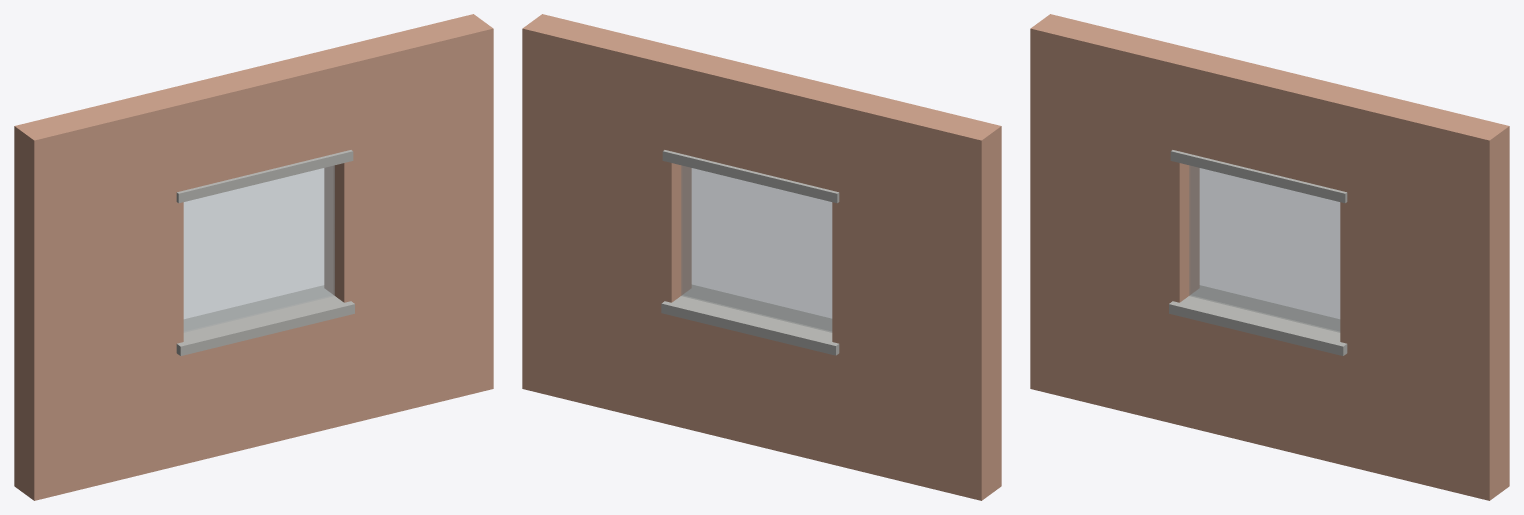
The model's file is b-wall_window.glb.
The picture shows the model from 3 angles, left to right: view 1: azimuth 30°, elevation 25°; view 2: azimuth 150°, elevation 25°; view 3: azimuth 330°, elevation 25°; orthographic projection.
Parts seen in each view (by area): view 1: b-wall_window; view 2: b-wall_window; view 3: b-wall_window.
Part boxes in pixels (box(x1,y1,x2,y2)): b-wall_window: box(14, 14, 493, 500); b-wall_window: box(522, 14, 1001, 500); b-wall_window: box(1030, 14, 1509, 500).
Bounding box in the file's own units: 4 × 3 × 0.41.
